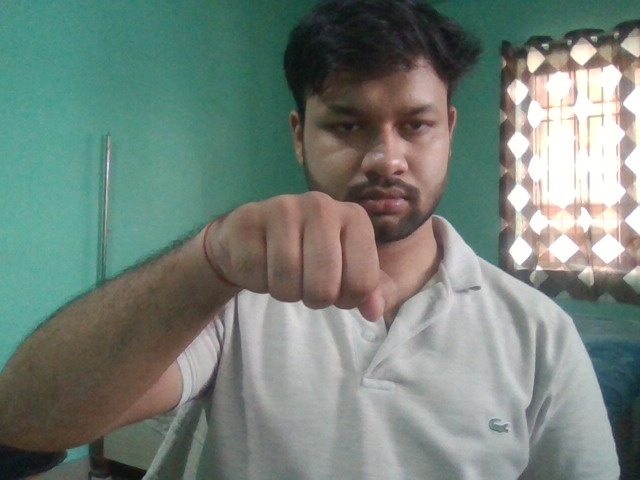Yes: (217, 191, 400, 323)
